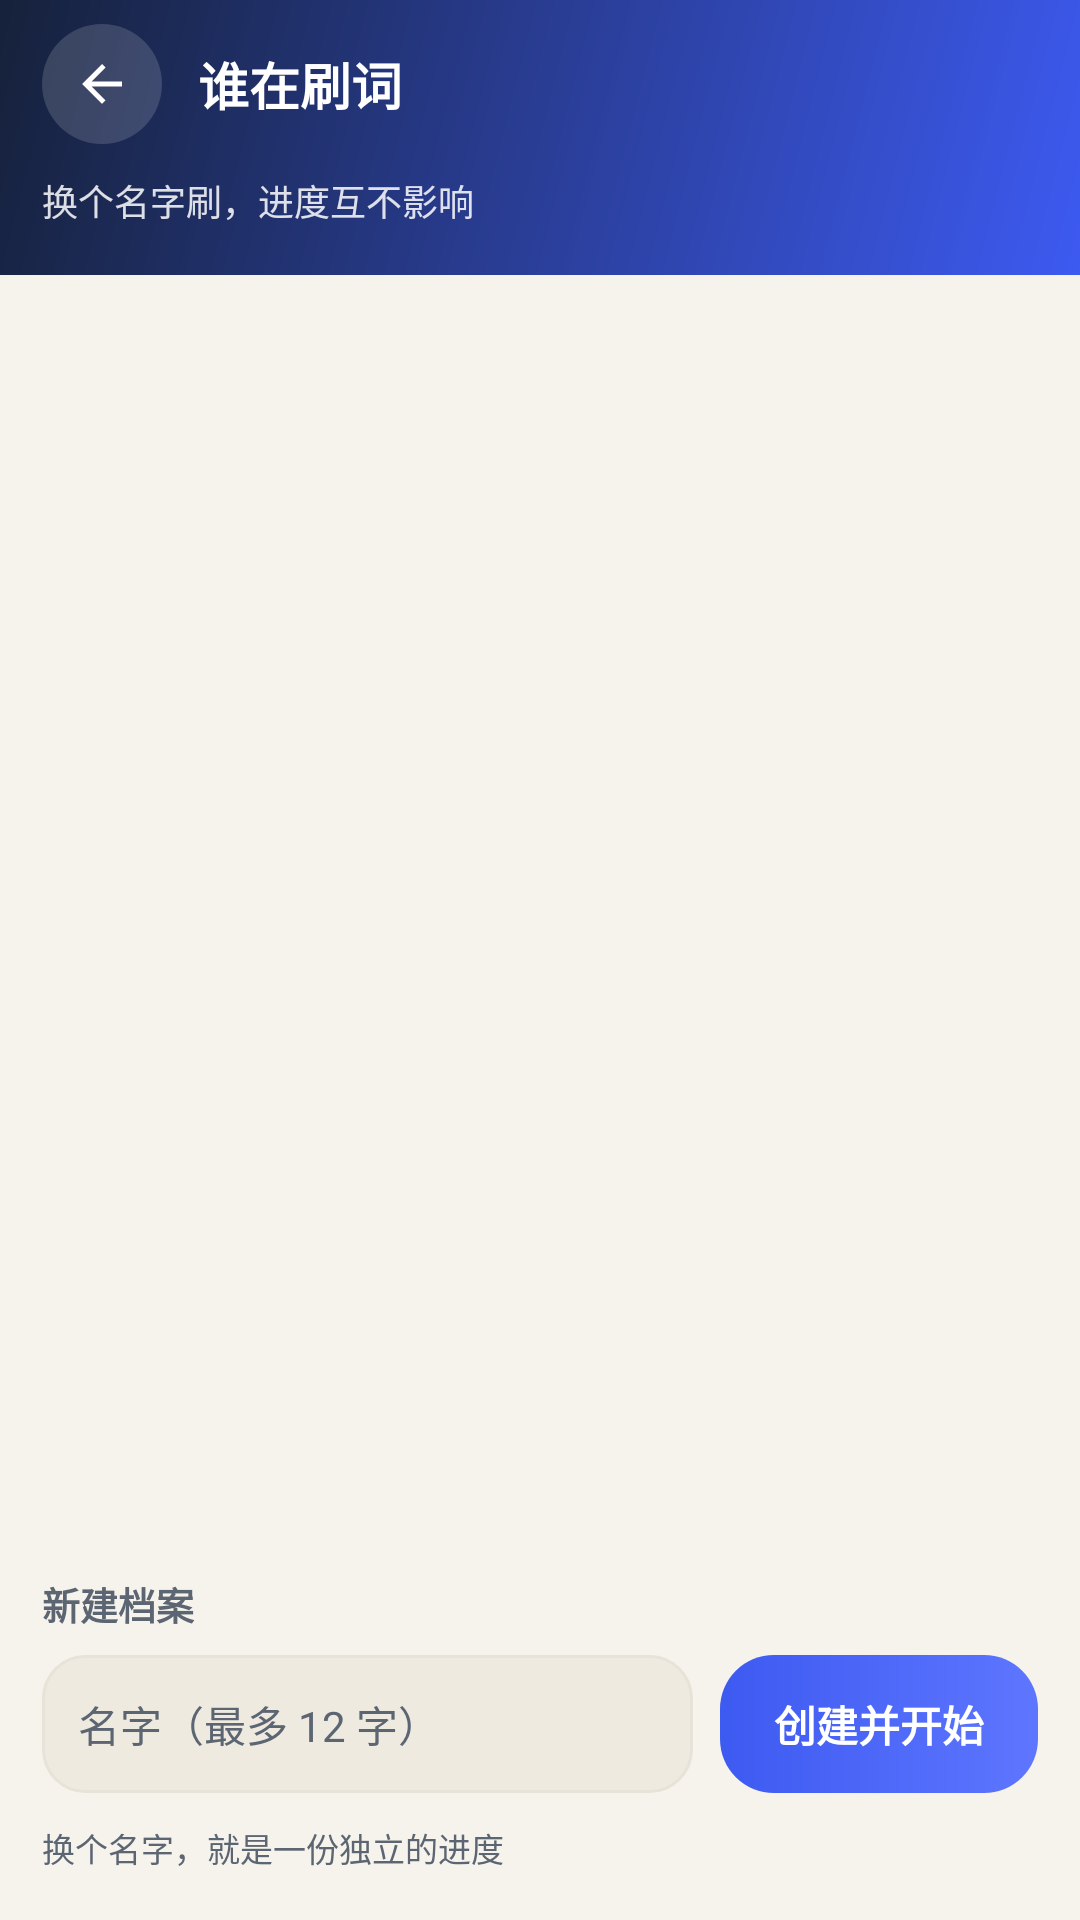

Named icons in this screenshot (1080x1920) and their centers, point (x, y):
返回: point (102, 84)
